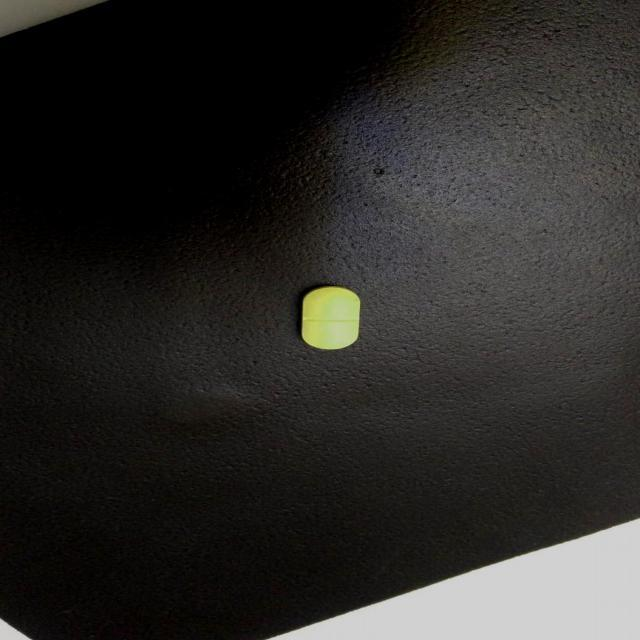pill: (275, 283, 382, 356)
